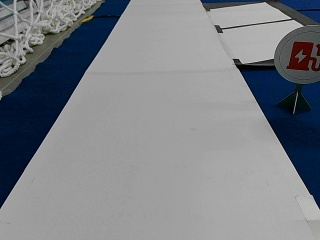battery: (274, 24, 319, 84)
